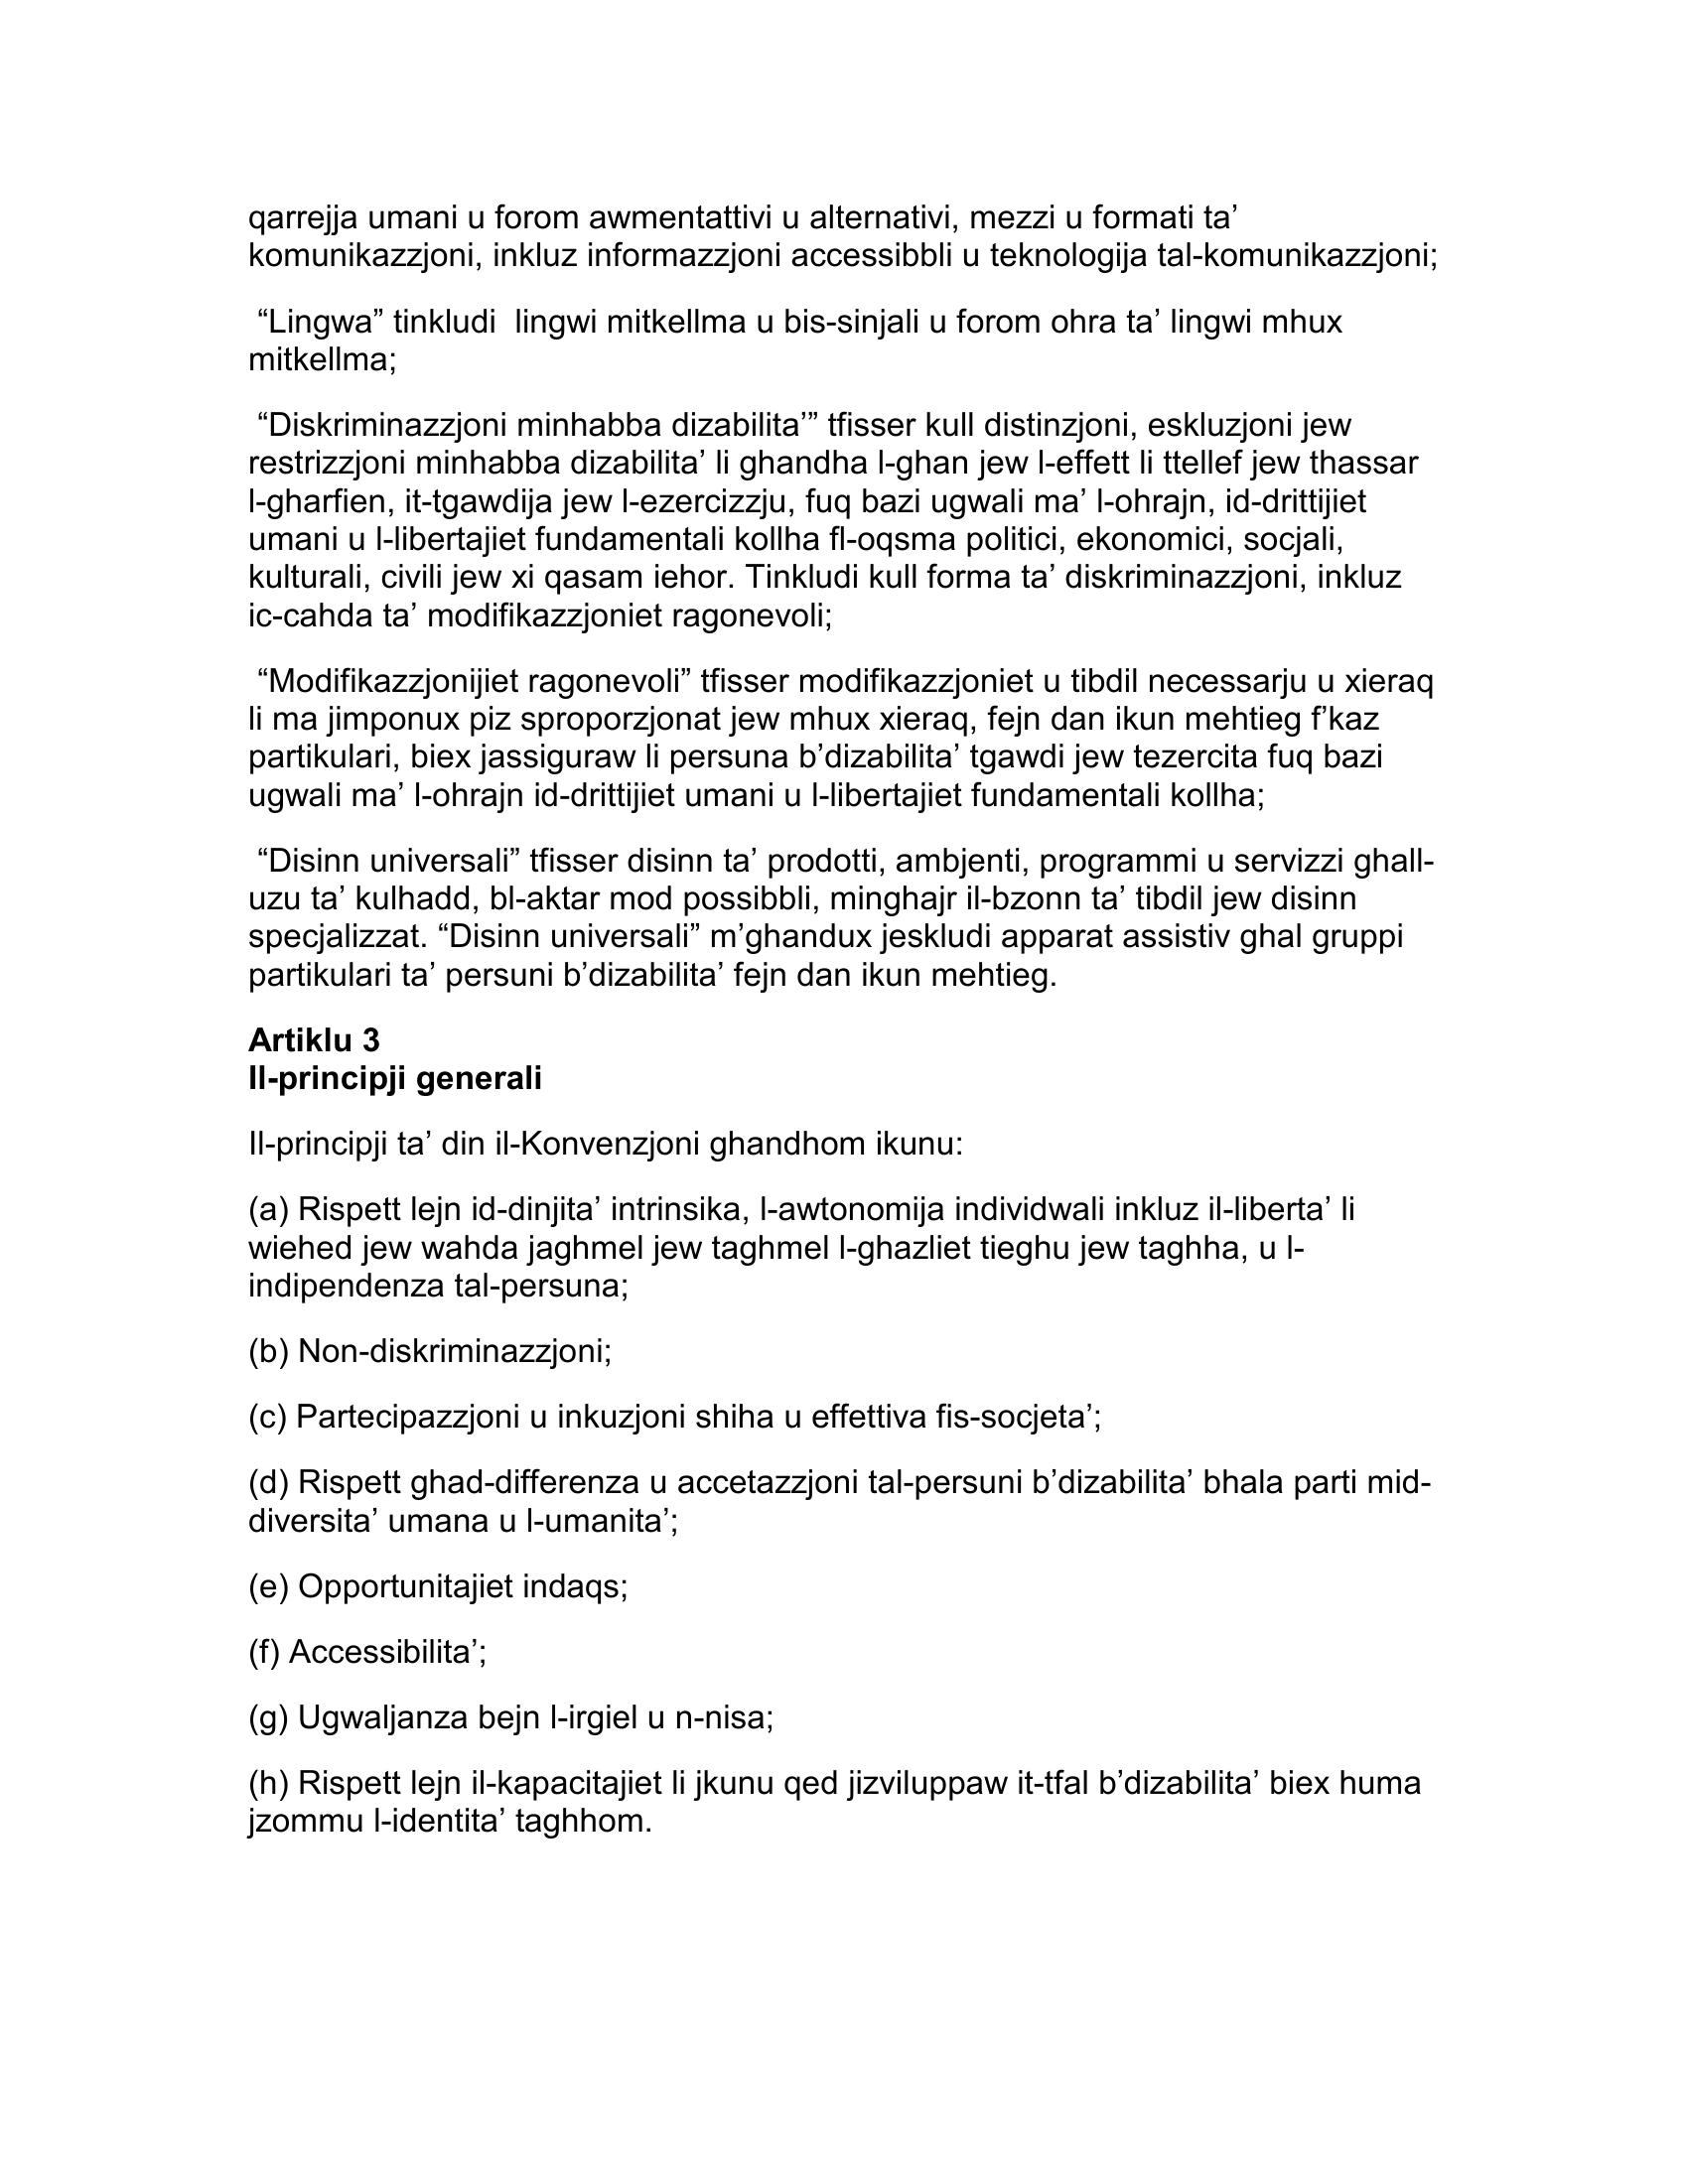text: (209, 172, 1461, 1863)
